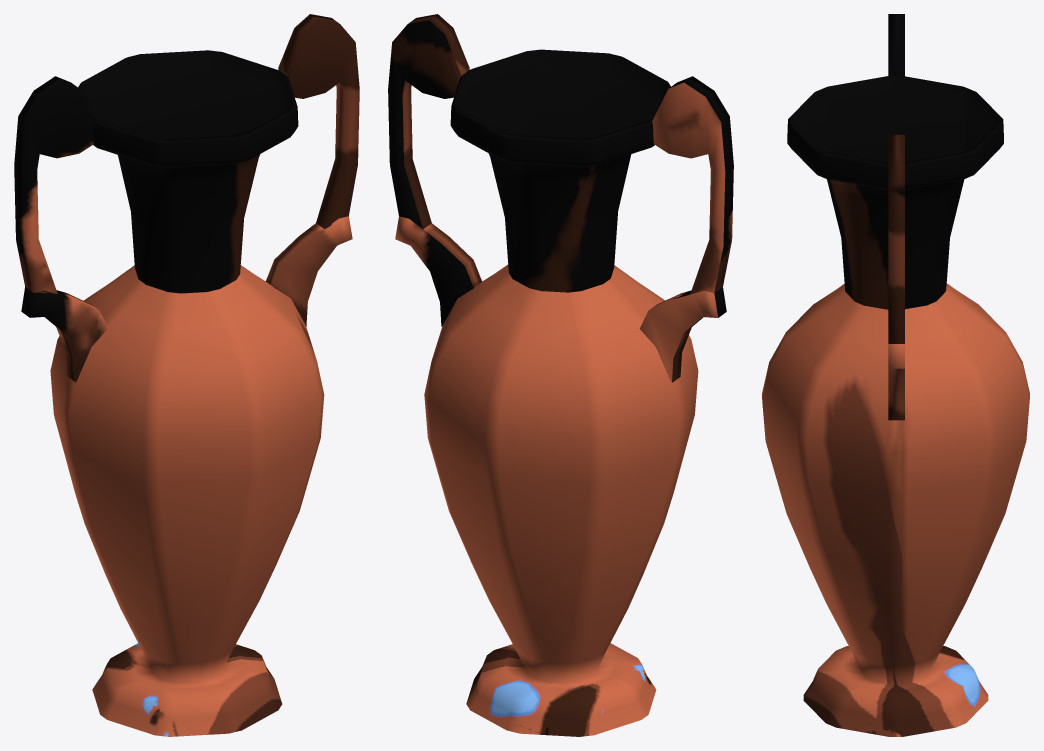
Rendered from pot3Blender.fbx.
3 views of the same model, side by side, from view 1: azimuth 30°, elevation 25°; view 2: azimuth 150°, elevation 25°; view 3: azimuth 270°, elevation 25° (orthographic). The views are drawn at different scales.
Visible parts, largest first — view 1: polySurface32, polySurface44, polySurface38, polySurface37; view 2: polySurface32, polySurface44, polySurface38, polySurface37; view 3: polySurface32, polySurface44, polySurface38, polySurface37.
Part boxes in pixels (left/top/right/bottom): polySurface32: left=50, top=265, right=324, bottom=736; polySurface44: left=78, top=50, right=298, bottom=293; polySurface38: left=14, top=14, right=359, bottom=294; polySurface37: left=21, top=216, right=352, bottom=382; polySurface32: left=424, top=264, right=698, bottom=736; polySurface44: left=450, top=49, right=670, bottom=292; polySurface38: left=388, top=14, right=733, bottom=294; polySurface37: left=395, top=216, right=726, bottom=382; polySurface32: left=762, top=283, right=1029, bottom=736; polySurface44: left=787, top=76, right=1003, bottom=309; polySurface38: left=888, top=14, right=904, bottom=343; polySurface37: left=888, top=344, right=904, bottom=420.
Bounding box in the file's own units: 1.87 × 3.45 × 1.34.
